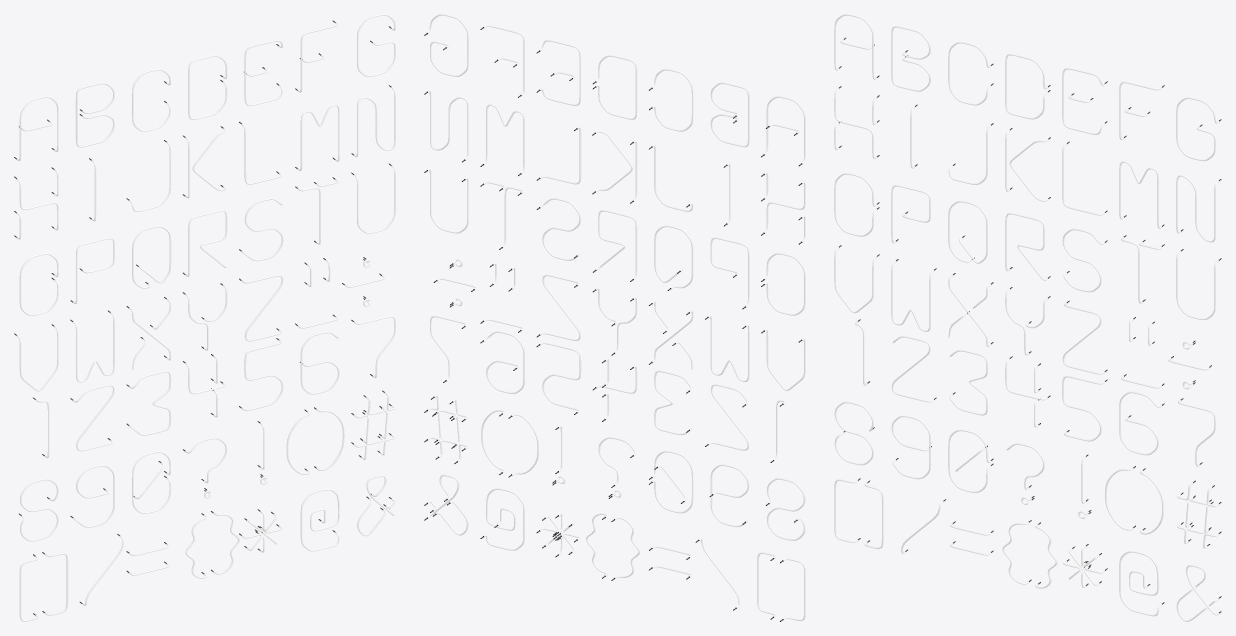
The model's file is neon_1.glb.
3 renders of one model, left to right at view 1: azimuth 30°, elevation 25°; view 2: azimuth 150°, elevation 25°; view 3: azimuth 330°, elevation 25°, orthographic.
Visible parts, largest first — view 1: hash, B, at; view 2: hash; view 3: hash.
Boxes of the visible parts, bbox=[...] form: hash: bbox=[351, 390, 395, 460]; B: bbox=[75, 82, 114, 147]; at: bbox=[300, 489, 339, 551]; hash: bbox=[424, 394, 468, 463]; hash: bbox=[1177, 480, 1221, 548].
Size of the model in its own units: 18.17 by 24.05 by 0.5564.
Materials: 1 (1 with a texture image).
